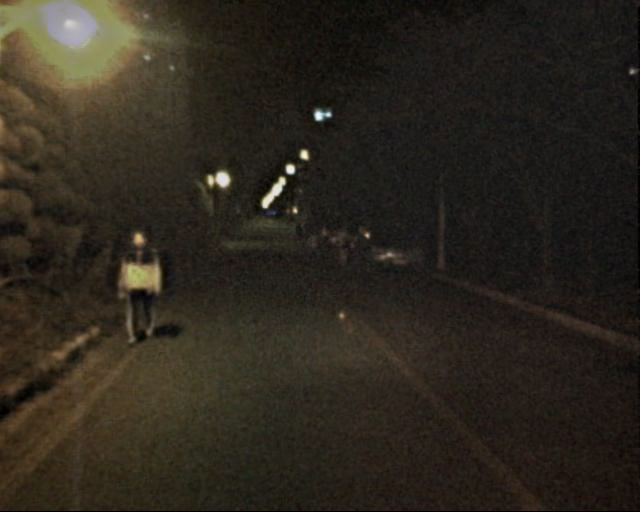person: (115, 225, 165, 348), (332, 224, 351, 271), (292, 220, 313, 250)
